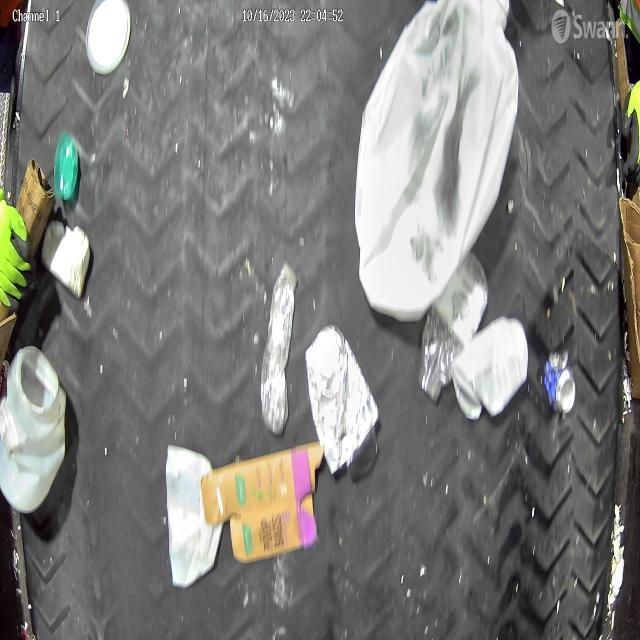can: (305, 325, 382, 480), (538, 348, 580, 423)
milk_jug: (348, 0, 521, 317), (0, 348, 71, 528)
plastic_bottle: (418, 233, 492, 404), (260, 256, 299, 436)
